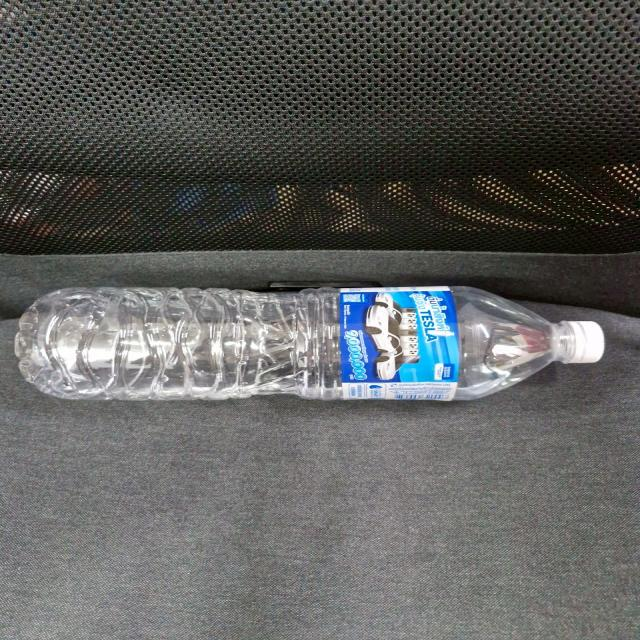plastic bottle: (18, 288, 614, 398)
